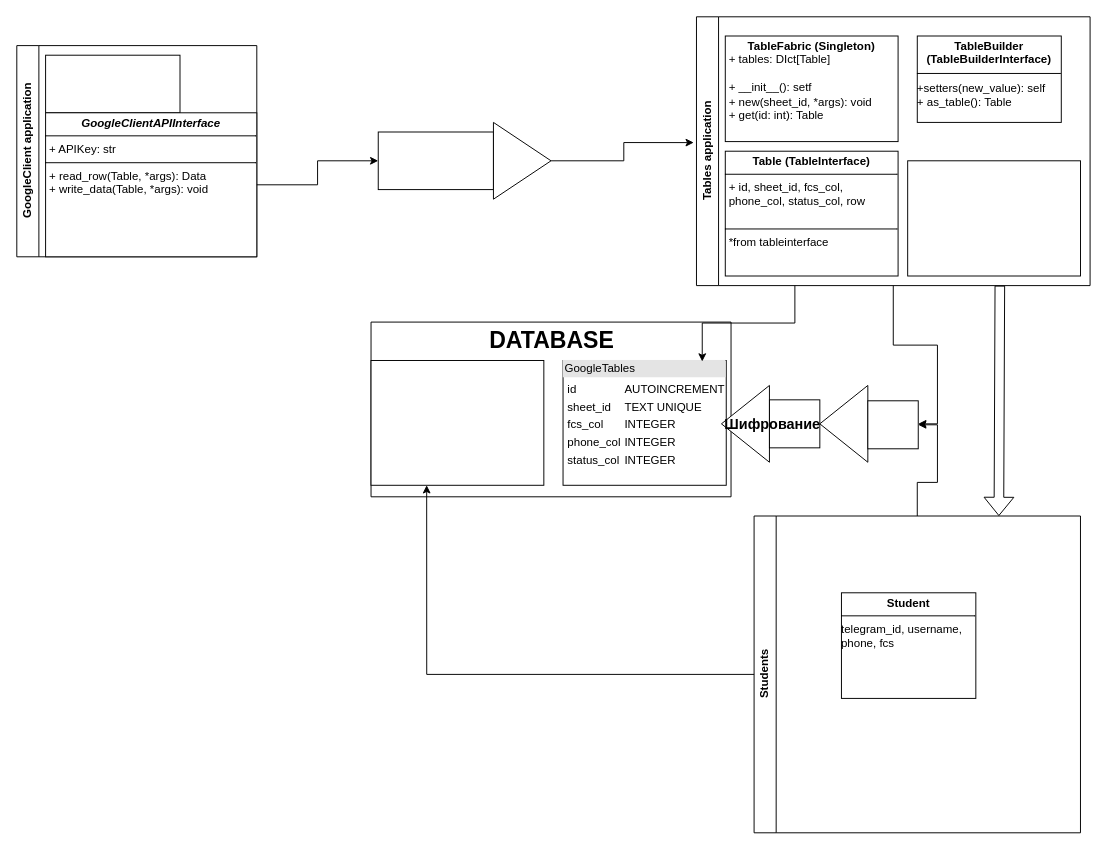
The diagram is 1107 pixels wide and 850 high, and some of its shapes have lost their labels. The centre of each missing label's shape, as x and y in pixels:
"GoogleApiClient Singleton, implement GoogleClientAPIInterface" belongs at pixel 112 83.
"Students telegram_Id PRIMARY KEY username TEXT UNIQUE phone TEXT UNIQUE fcs TEXT" belongs at pixel 457 422.
"TableInterface + get_next(): users.Student + set_status(): void" belongs at pixel 993 218.
"Адаптер" belongs at pixel 435 160.
"Сериализация" belongs at pixel 892 424.
